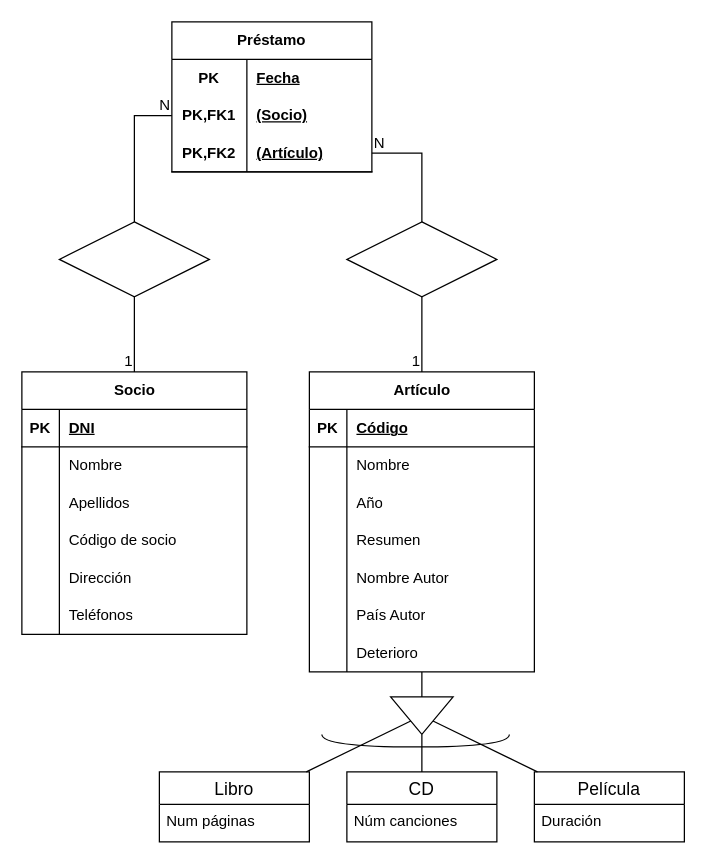
This 706x868 diagram has some shape labels left out. The shapes that lost their labels are listed below. From the top down, each one's centre as x and y in pixels, then its label:
At (133,259): "Prestador".
At (421,259): "Prestado".
